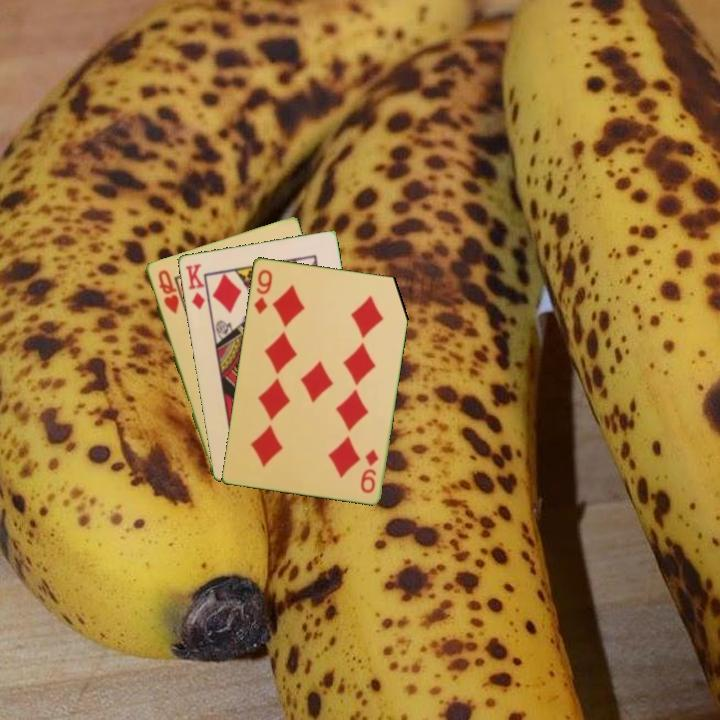9d: (250, 266, 275, 316), (357, 445, 381, 496)
Kd: (182, 260, 208, 312)
Qh: (154, 266, 182, 316)
